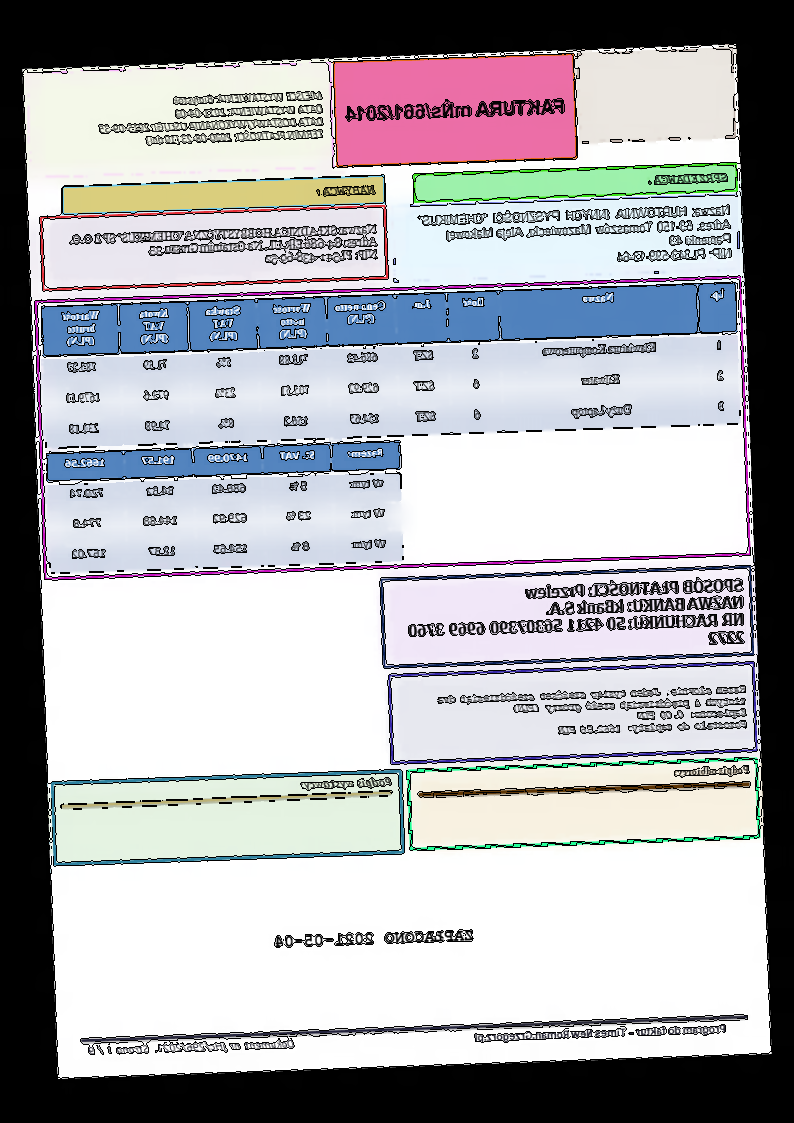Table: (40, 281, 742, 450), (45, 439, 406, 575)
TextBox: (406, 575, 748, 658), (415, 201, 734, 272), (435, 681, 750, 742), (67, 220, 380, 274), (96, 88, 326, 148), (343, 94, 566, 123), (473, 1022, 728, 1046), (272, 926, 475, 951), (87, 1036, 297, 1058), (299, 775, 394, 792), (646, 171, 730, 187), (674, 762, 751, 779), (315, 184, 378, 198)
